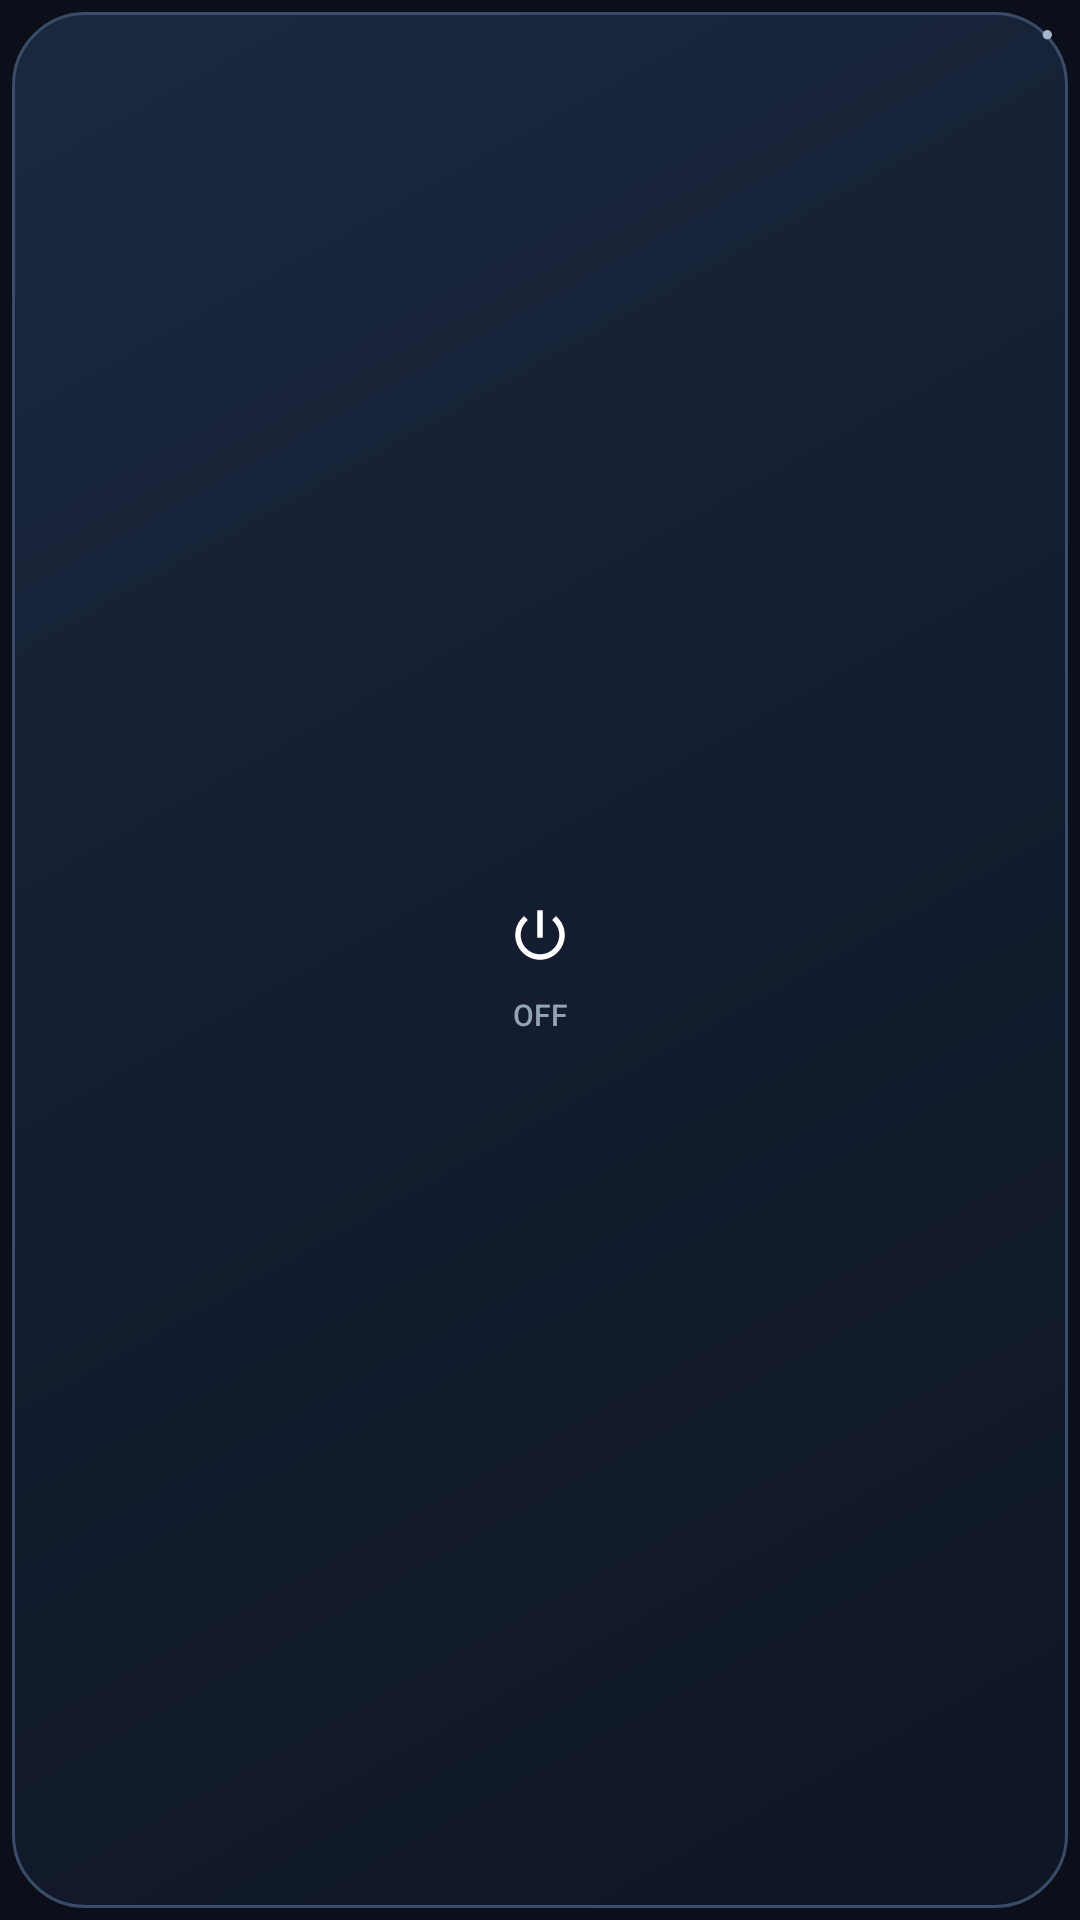

Screen size 1080x1920. Icon name, then its center in pixels as [x,y]:
widget power: [540,935]
